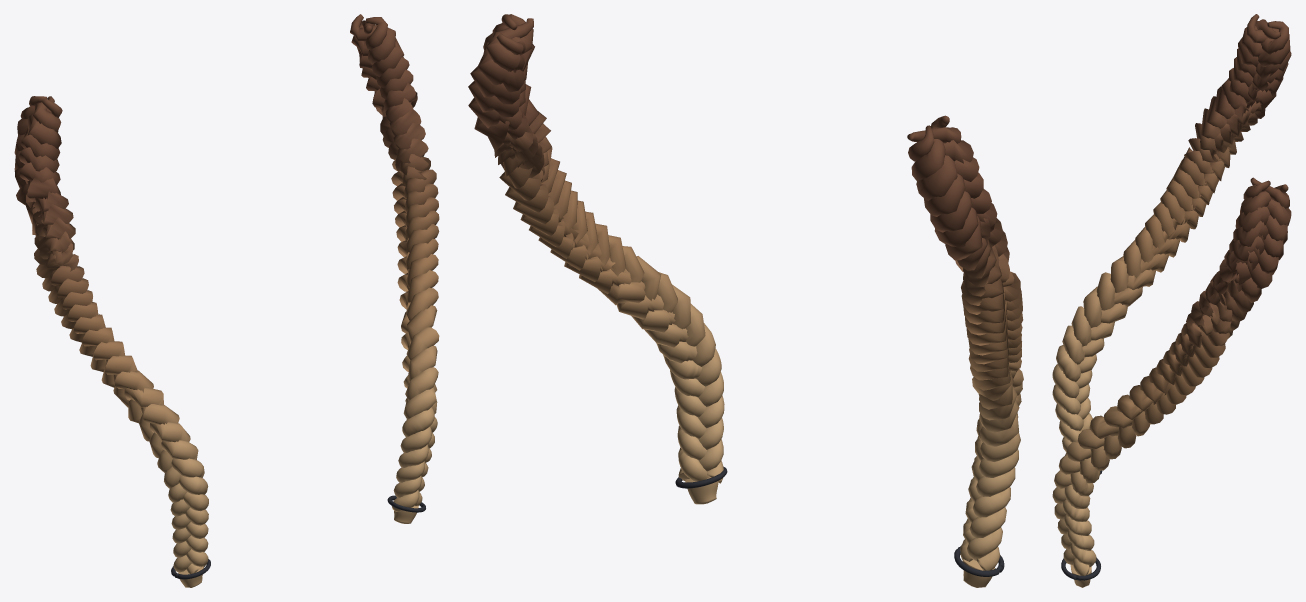
The model's file is twins-none-jersey-ombre.glb.
3 renders of one model, left to right at view 1: azimuth 30°, elevation 25°; view 2: azimuth 150°, elevation 25°; view 3: azimuth 270°, elevation 25°, orthographic. The views are drawn at different scales.
Visible parts, largest first — view 1: 226 hairLengths / Hair / chestnut226; view 2: 226 hairLengths / Hair / chestnut226, 226 hairLengths / Hair / ties226; view 3: 226 hairLengths / Hair / chestnut226, 226 hairLengths / Hair / ties226.
Part boxes in pixels (bbox=[...]): 226 hairLengths / Hair / chestnut226: bbox=[14, 14, 439, 587]; 226 hairLengths / Hair / chestnut226: bbox=[468, 14, 1023, 587]; 226 hairLengths / Hair / ties226: bbox=[675, 466, 1004, 576]; 226 hairLengths / Hair / chestnut226: bbox=[1052, 14, 1291, 587]; 226 hairLengths / Hair / ties226: bbox=[1061, 470, 1102, 580].
Bounding box in the file's own units: 0.8712 × 0.9287 × 0.4503.
Materials: 2 (1 with a texture image).
